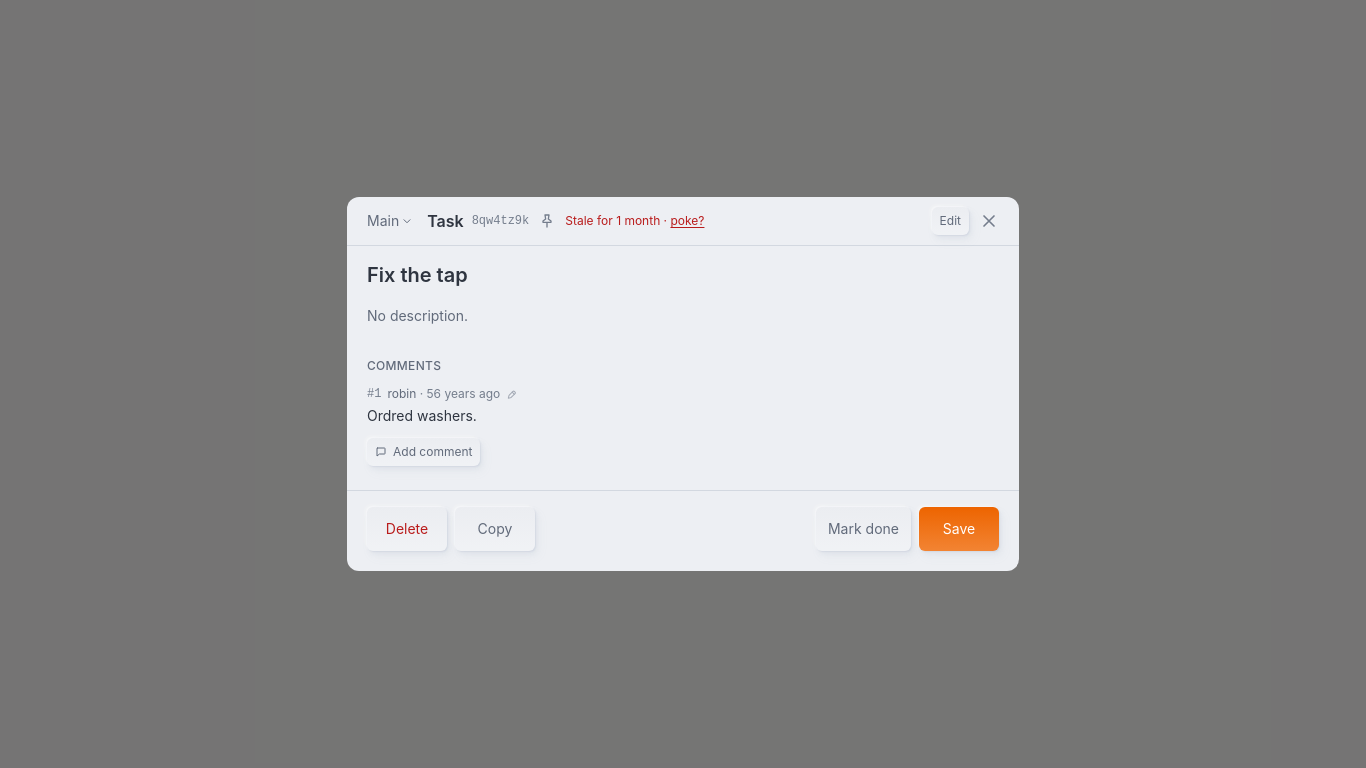
Test: comments › asks before dropping a changed edit
The image size is (1366, 768).
Click the button named "Edit comment": coordinates (512, 394) top-left (506, 388), bottom-right (518, 400)
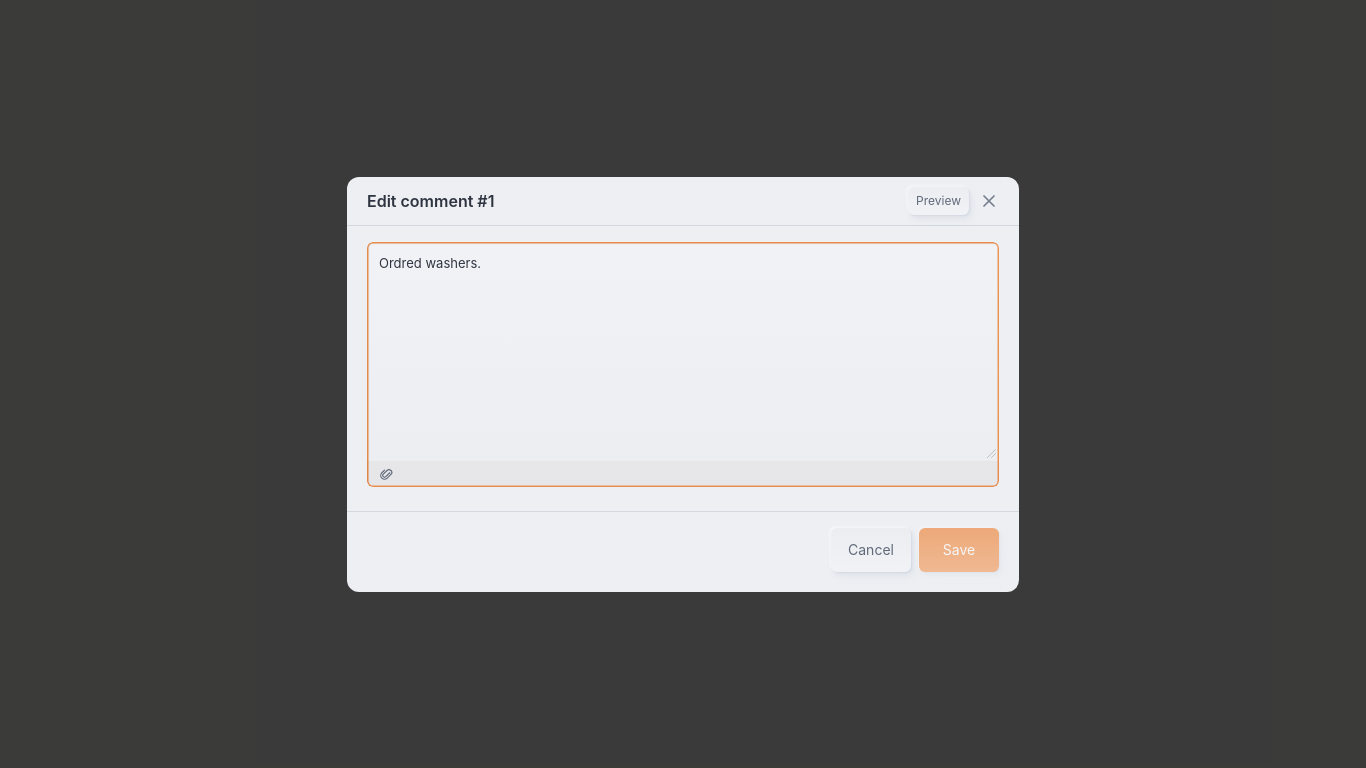
Replace the text in the text box with placeholder "Comment. Markdown; Ctrl+Enter sends." with "Ordered washers.": coordinates (683, 351) top-left (367, 242), bottom-right (999, 460)
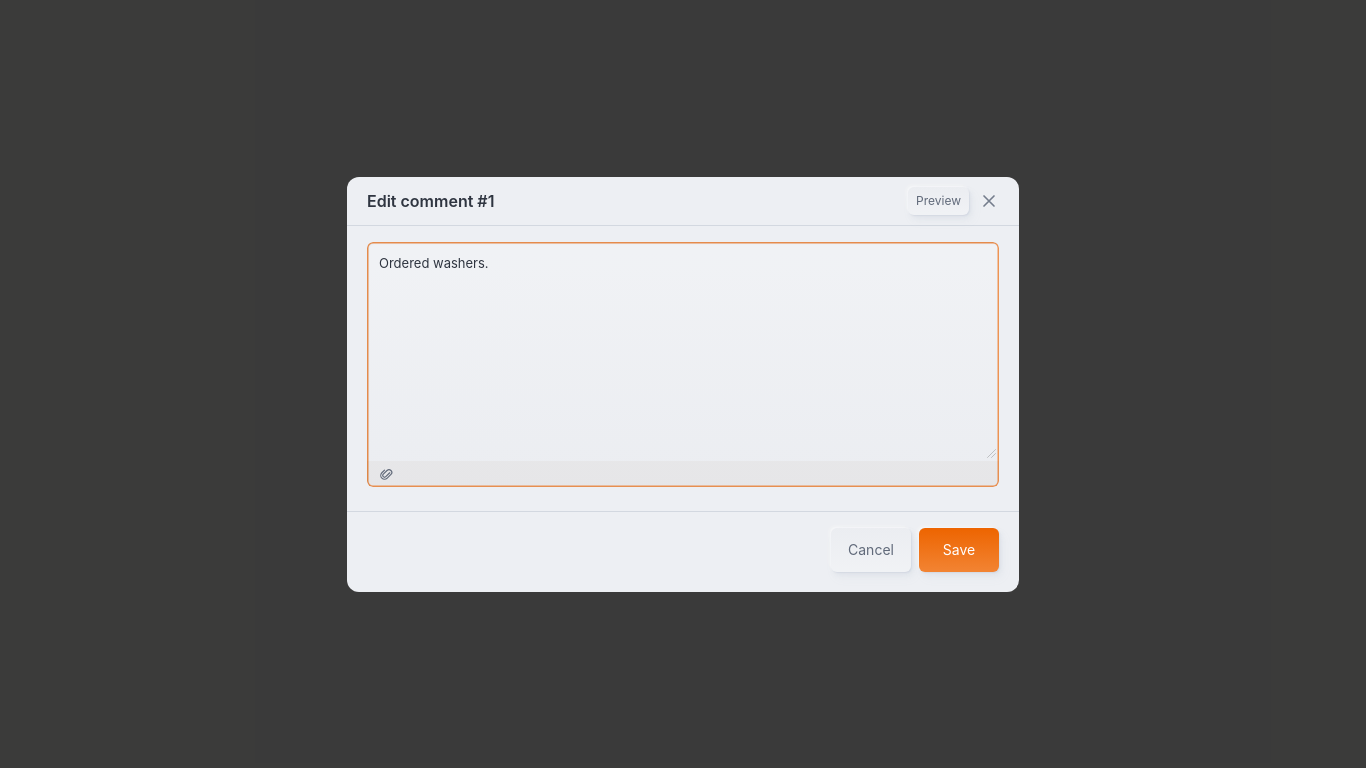
Click the button "Cancel": coordinates (871, 550) top-left (831, 528), bottom-right (911, 572)
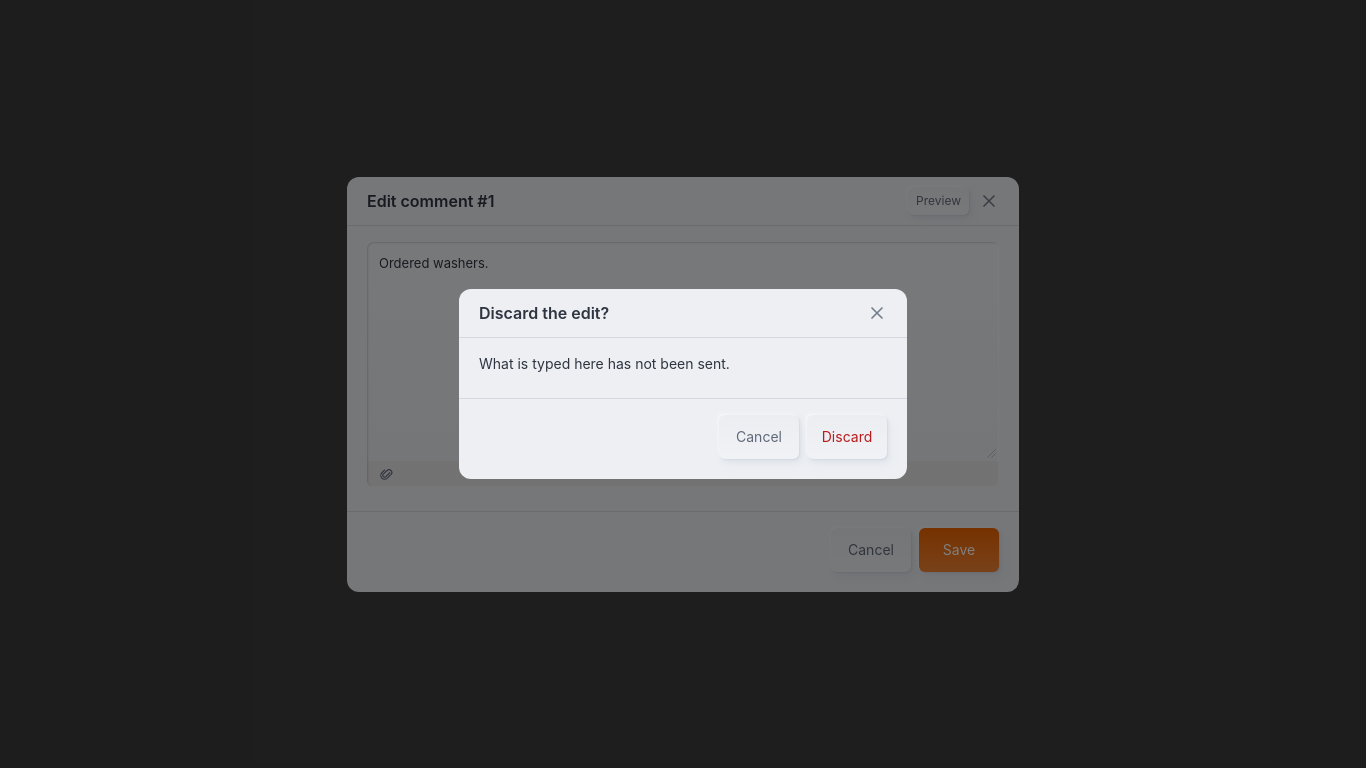
Click the button "Cancel": coordinates (759, 437) top-left (719, 415), bottom-right (799, 459)
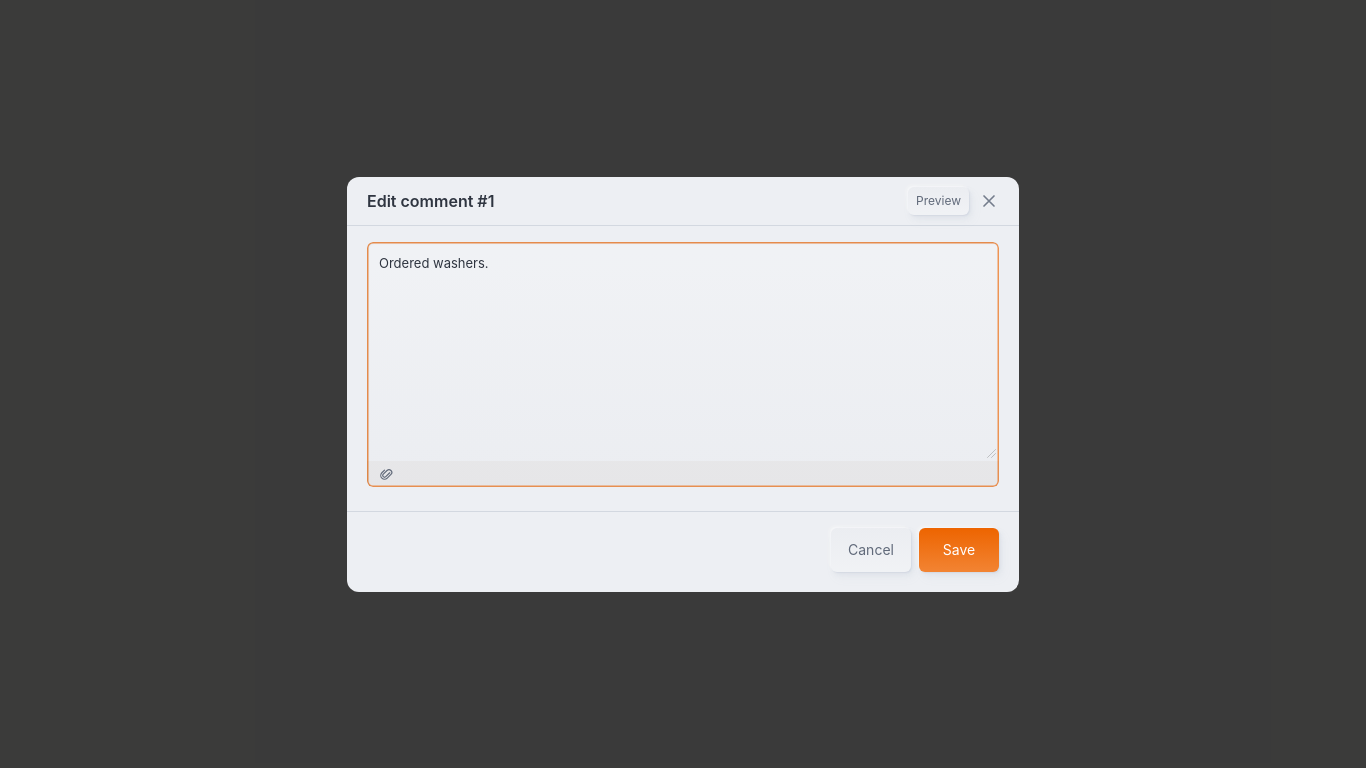
Check: the heading "Discard the edit?" is gone
Click the button "Cancel": coordinates (871, 550) top-left (831, 528), bottom-right (911, 572)
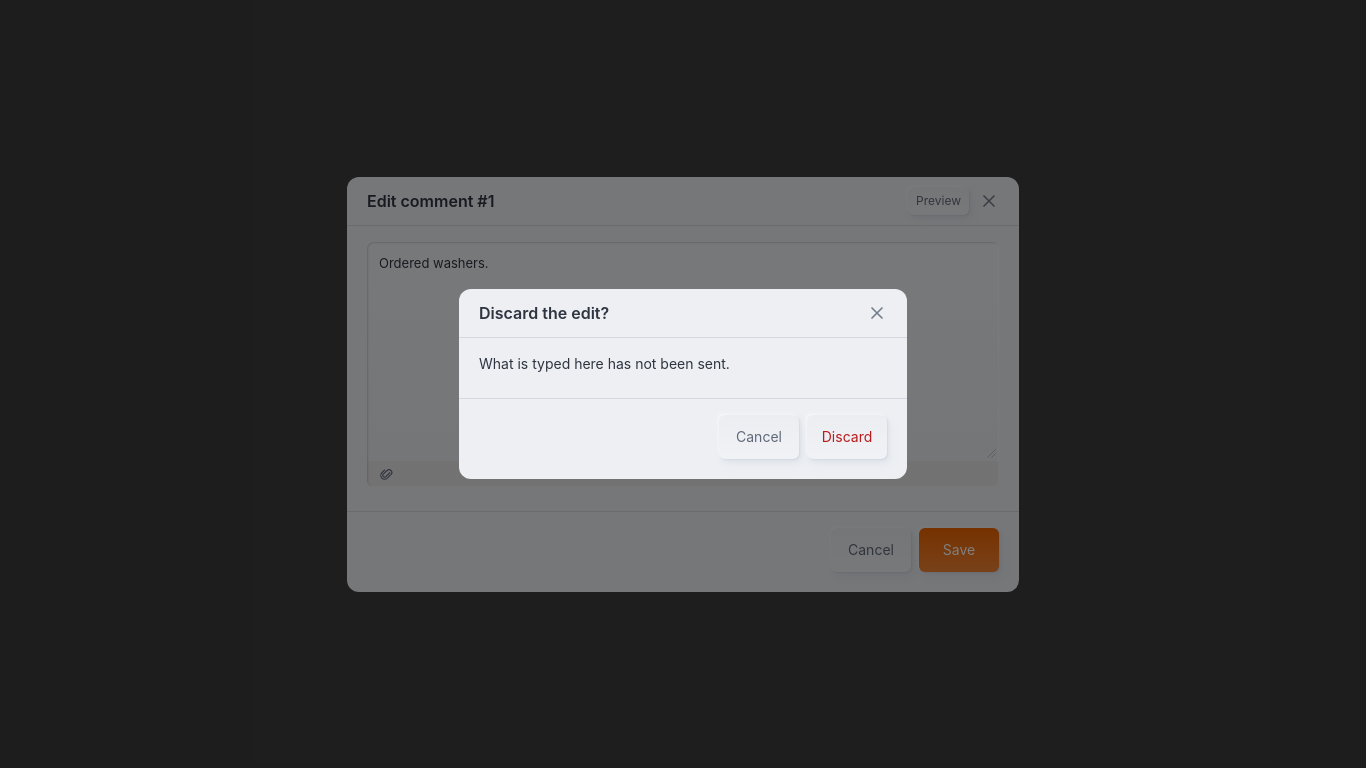
Click the button "Discard": coordinates (847, 437) top-left (807, 415), bottom-right (887, 459)
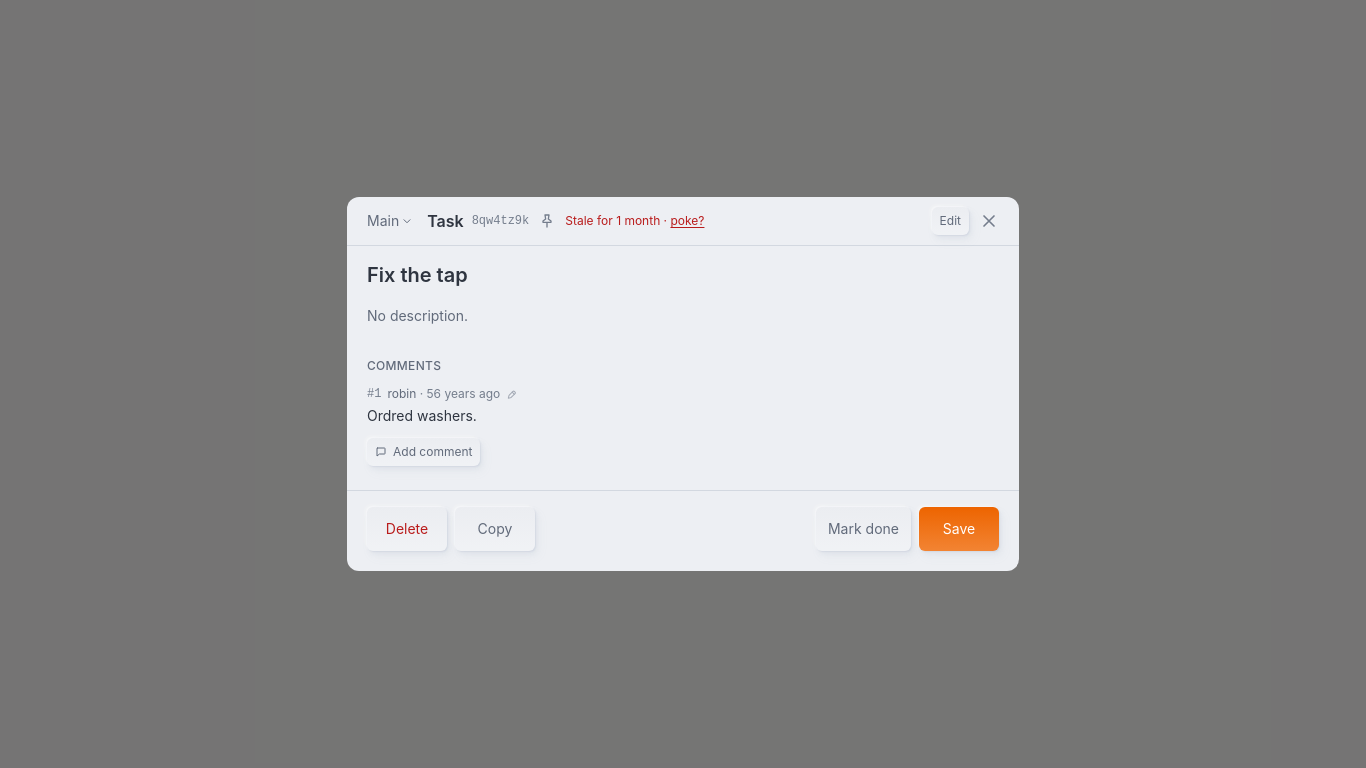
Check: the heading "Edit comment #1" is gone
